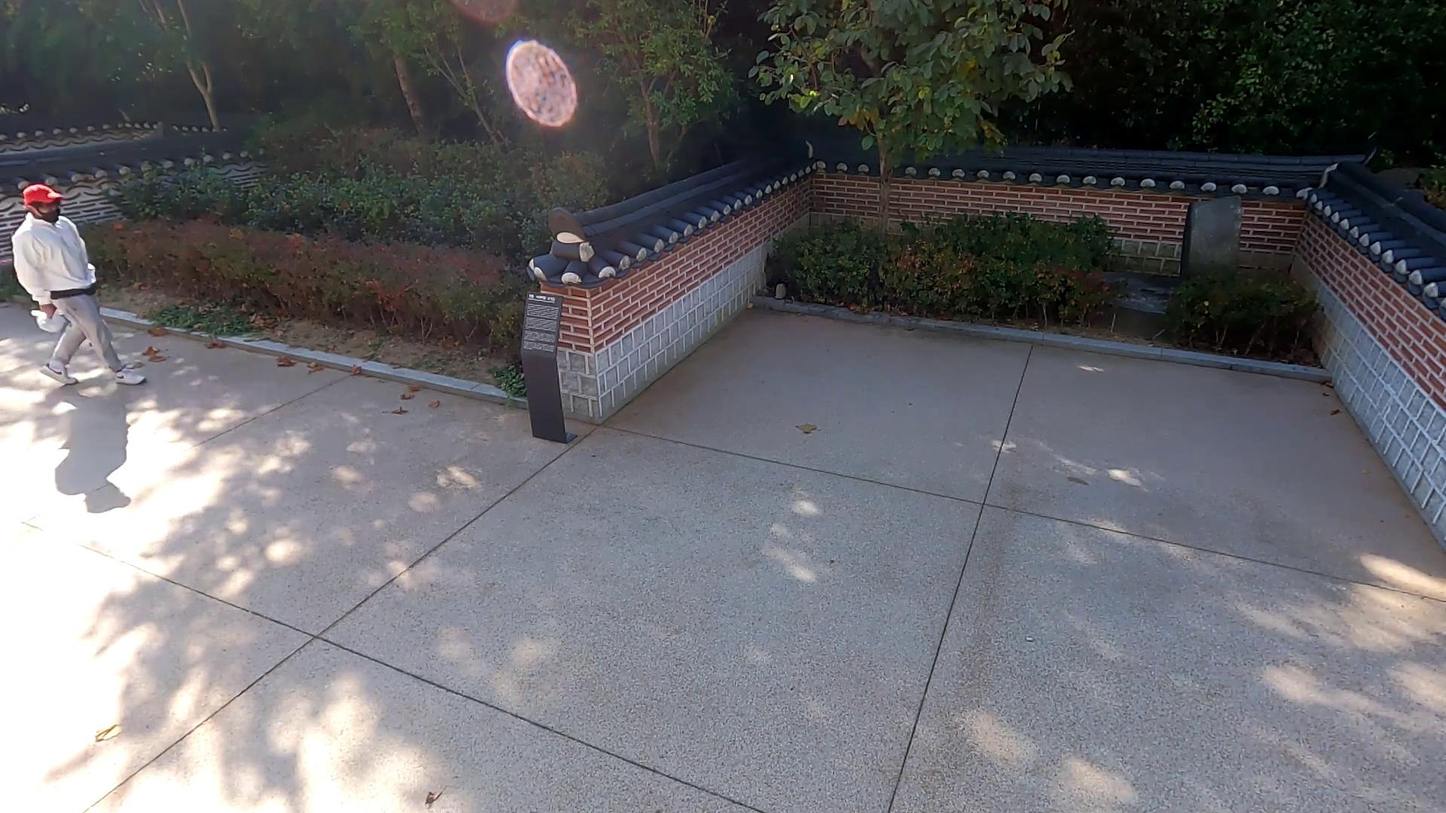person: (15, 184, 150, 391)
trash: (34, 303, 69, 335)
